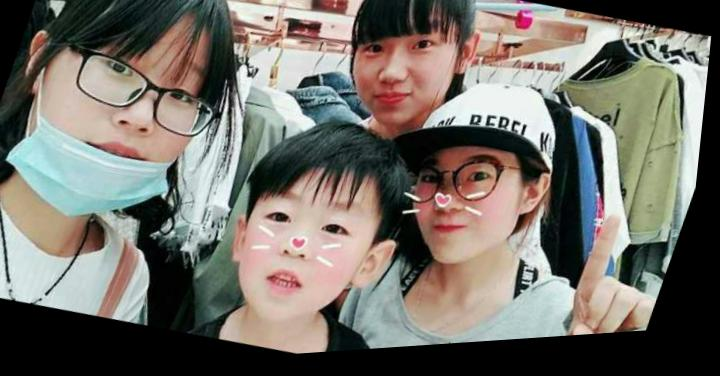NONE: (225, 174, 392, 348), (392, 133, 537, 289), (335, 10, 469, 147)
WRONG: (1, 1, 236, 244)
